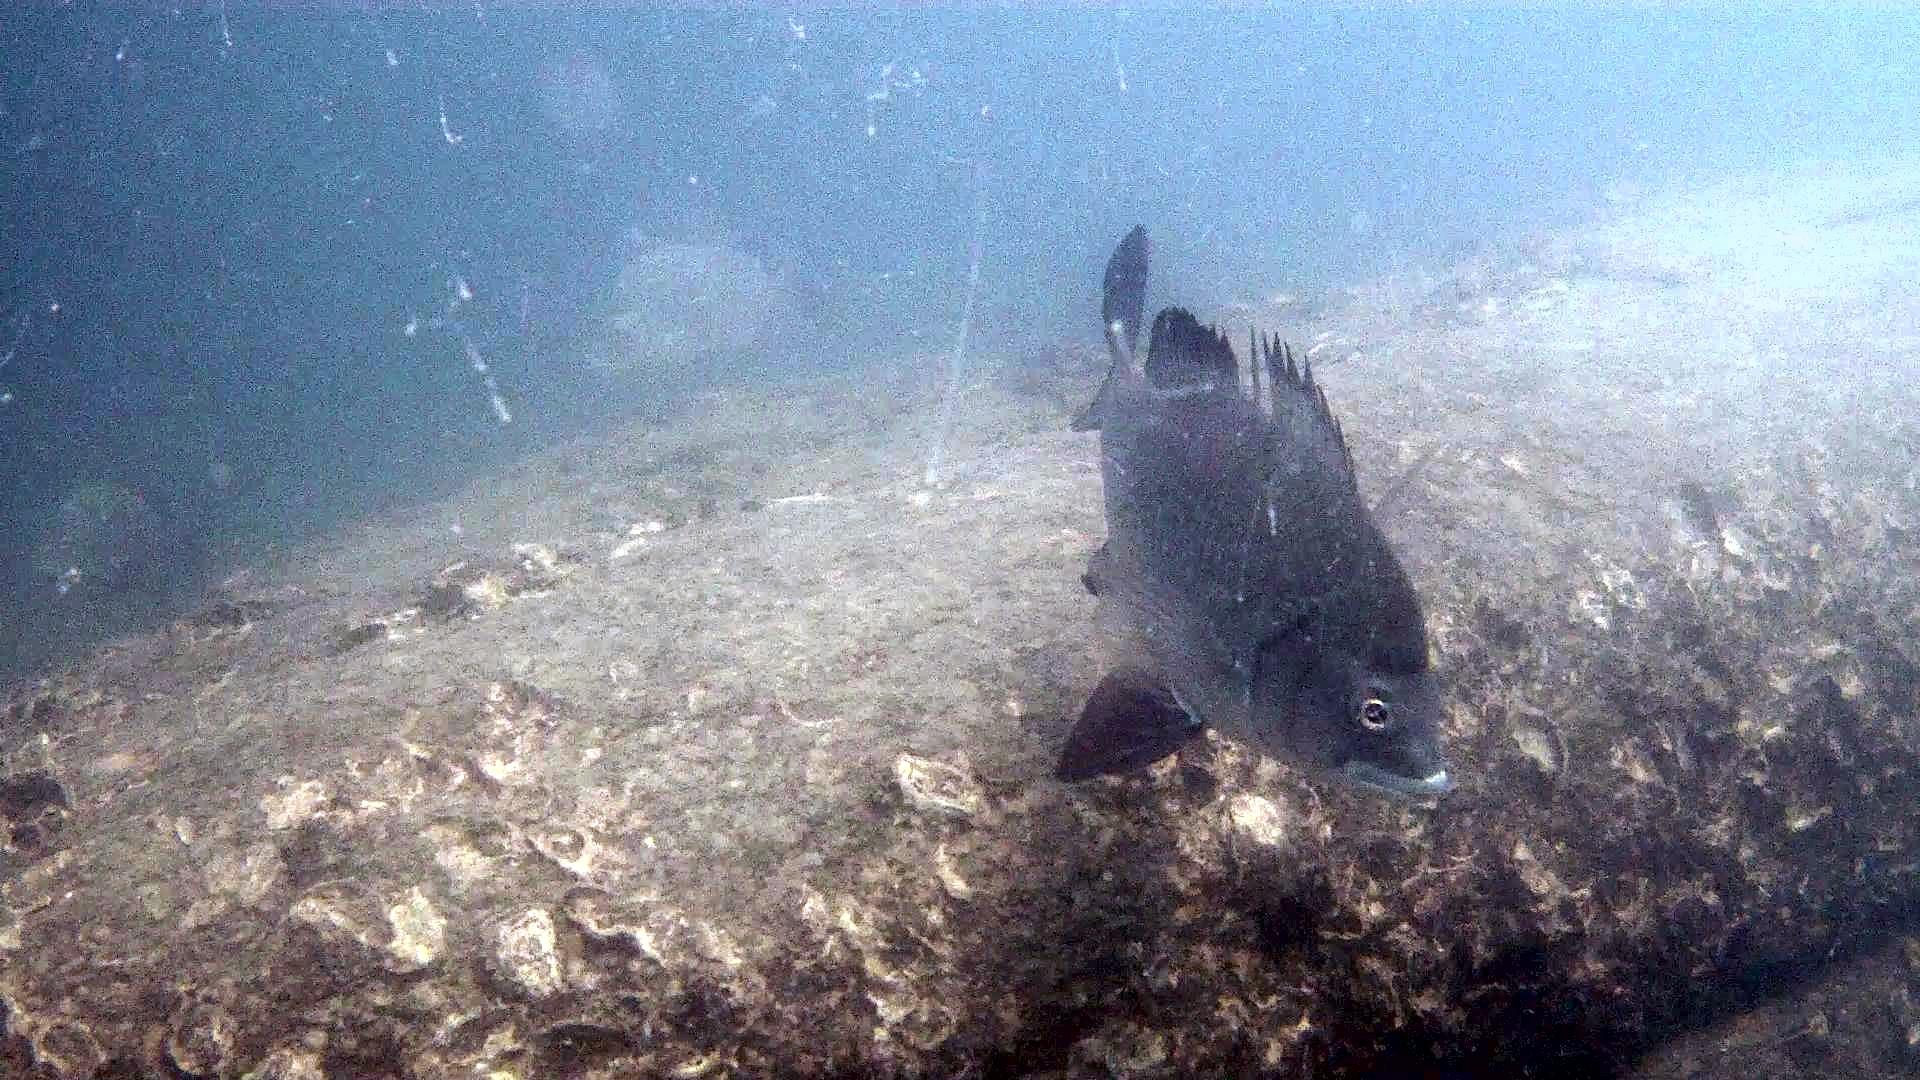acanthopagrus palmaris: (1033, 211, 1498, 825)
